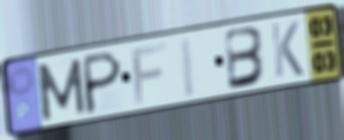B: (223, 24, 268, 93)
F: (129, 39, 169, 107)
I: (178, 33, 198, 101)
K: (268, 18, 306, 80)
M: (34, 56, 88, 124)
P: (83, 48, 125, 117)
